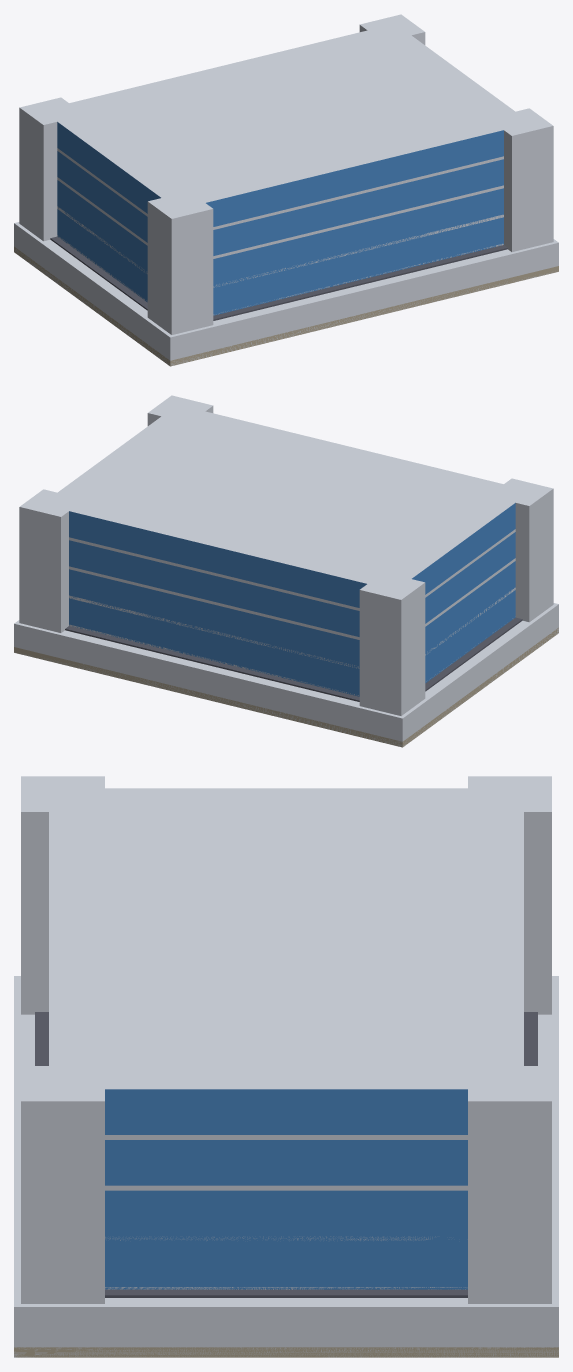
Rendered from Kit_SlabTower.glb.
The picture shows the model from 3 angles, top to bottom: view 1: azimuth 30°, elevation 25°; view 2: azimuth 150°, elevation 25°; view 3: azimuth 270°, elevation 25°; orthographic projection. The views are drawn at different scales.
Parts seen in each view (by area): view 1: Kit_SlabTower_Shaft, Kit_SlabTower_Base, Kit_SlabTower_Crown; view 2: Kit_SlabTower_Shaft, Kit_SlabTower_Base, Kit_SlabTower_Crown; view 3: Kit_SlabTower_Shaft, Kit_SlabTower_Base, Kit_SlabTower_Crown.
Boxes of the visible parts, x1,y1,x2,y2 form: Kit_SlabTower_Shaft: (19, 14, 553, 334); Kit_SlabTower_Base: (14, 180, 558, 366); Kit_SlabTower_Crown: (14, 222, 558, 366); Kit_SlabTower_Shaft: (19, 395, 553, 715); Kit_SlabTower_Base: (14, 561, 558, 747); Kit_SlabTower_Crown: (14, 603, 558, 746); Kit_SlabTower_Shaft: (21, 776, 551, 1303); Kit_SlabTower_Base: (14, 938, 558, 1357); Kit_SlabTower_Crown: (14, 976, 558, 1357).
Size of the model in its own units: 56 by 20 by 39.
